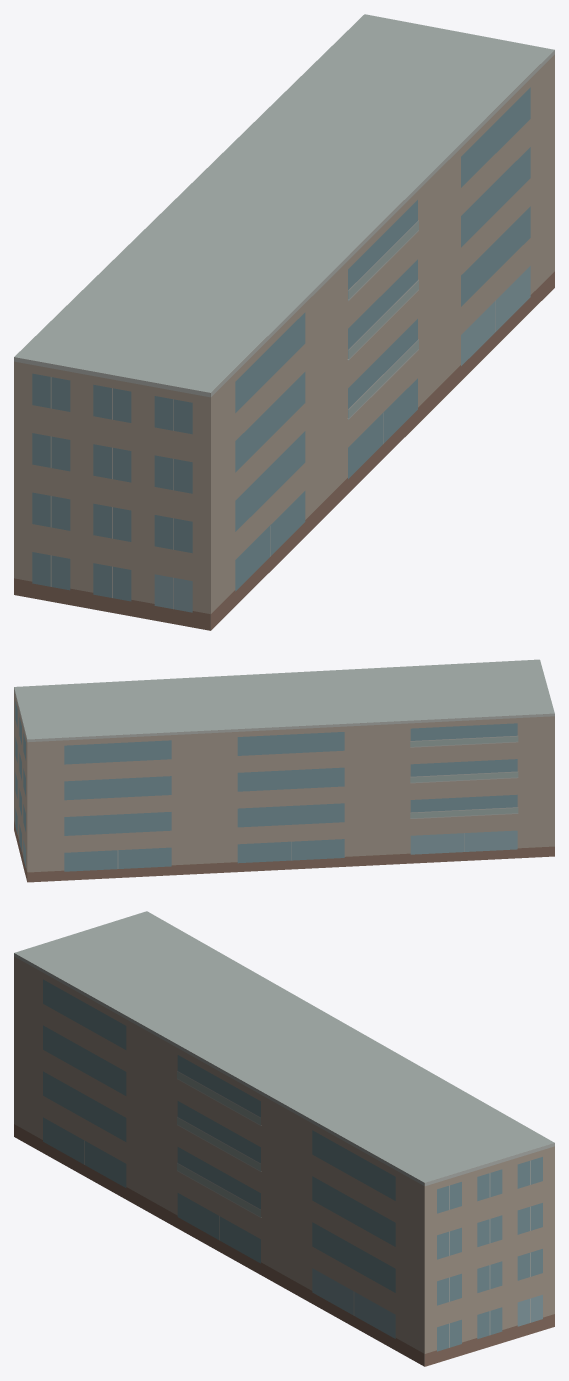
Rendered from survey-upis-32807235.glb.
3 renders of one model, top to bottom at view 1: azimuth 30°, elevation 25°; view 2: azimuth 150°, elevation 25°; view 3: azimuth 270°, elevation 25°, orthographic. The views are drawn at different scales.
Visible parts, largest first — view 1: survey-upis-32807235.tmp; view 2: survey-upis-32807235.tmp; view 3: survey-upis-32807235.tmp.
Part boxes in pixels (bbox=[...]): survey-upis-32807235.tmp: bbox=[14, 14, 554, 630]; survey-upis-32807235.tmp: bbox=[14, 659, 554, 882]; survey-upis-32807235.tmp: bbox=[14, 911, 554, 1366].
Size of the model in its own units: 40.9 by 12.9 by 34.39.
